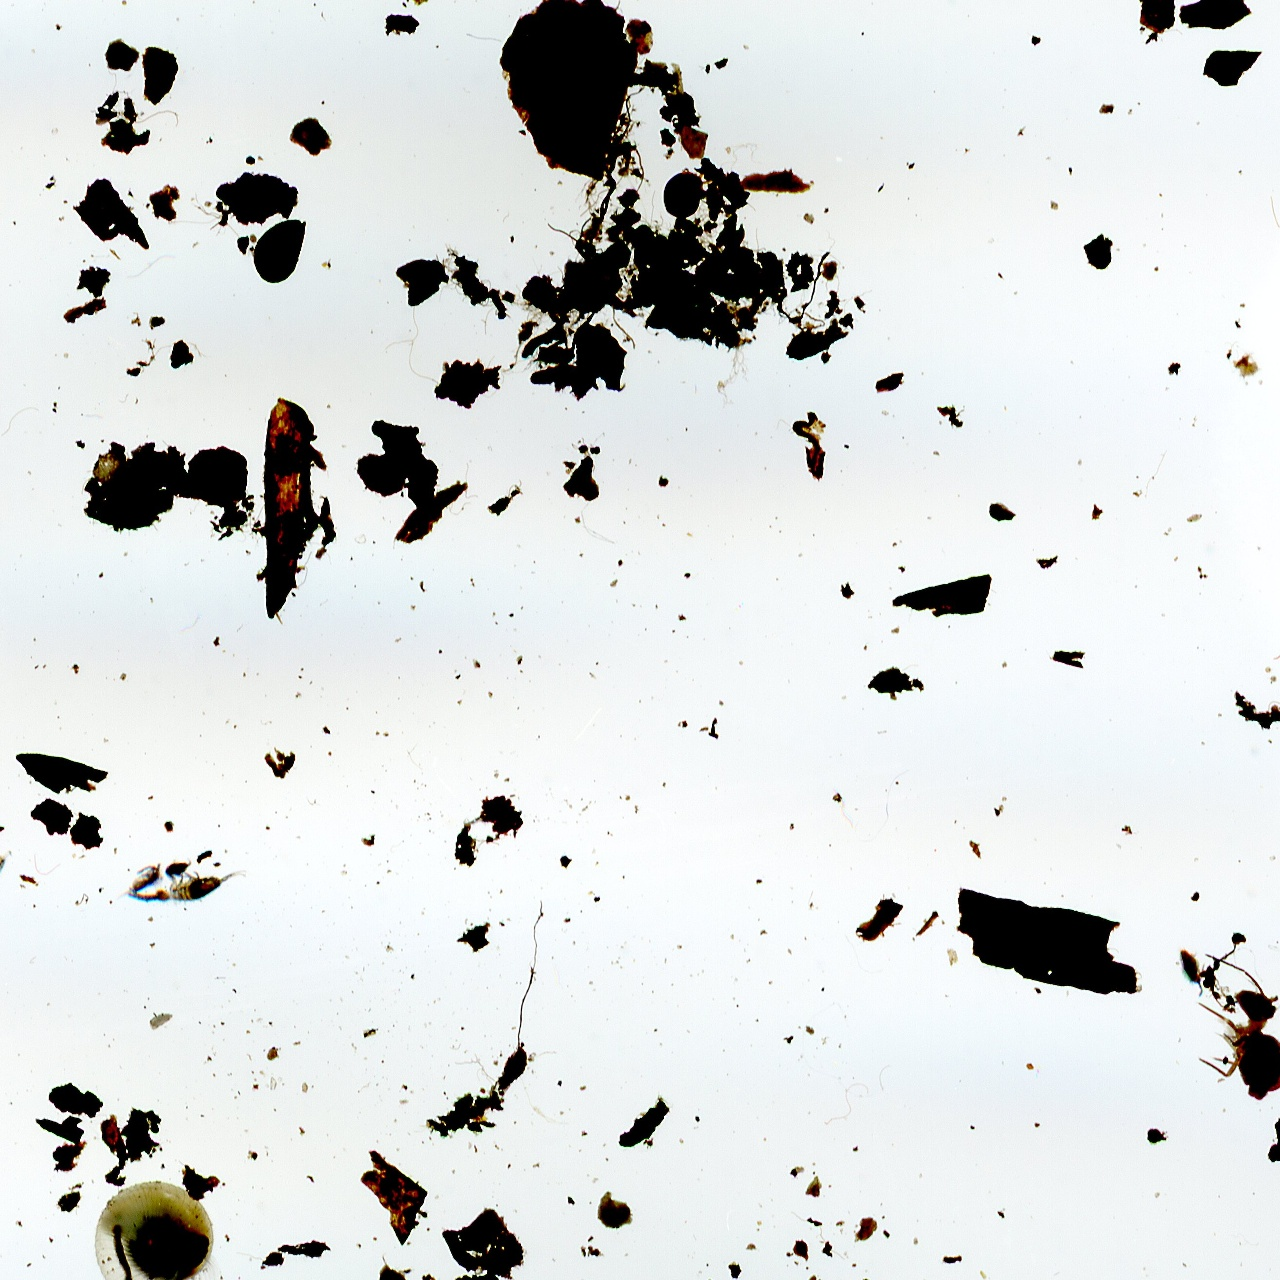arthropod: (93, 1179, 226, 1280), (1198, 946, 1280, 1104), (125, 867, 250, 908), (1173, 942, 1210, 1001), (114, 860, 165, 901), (0, 846, 13, 893)
